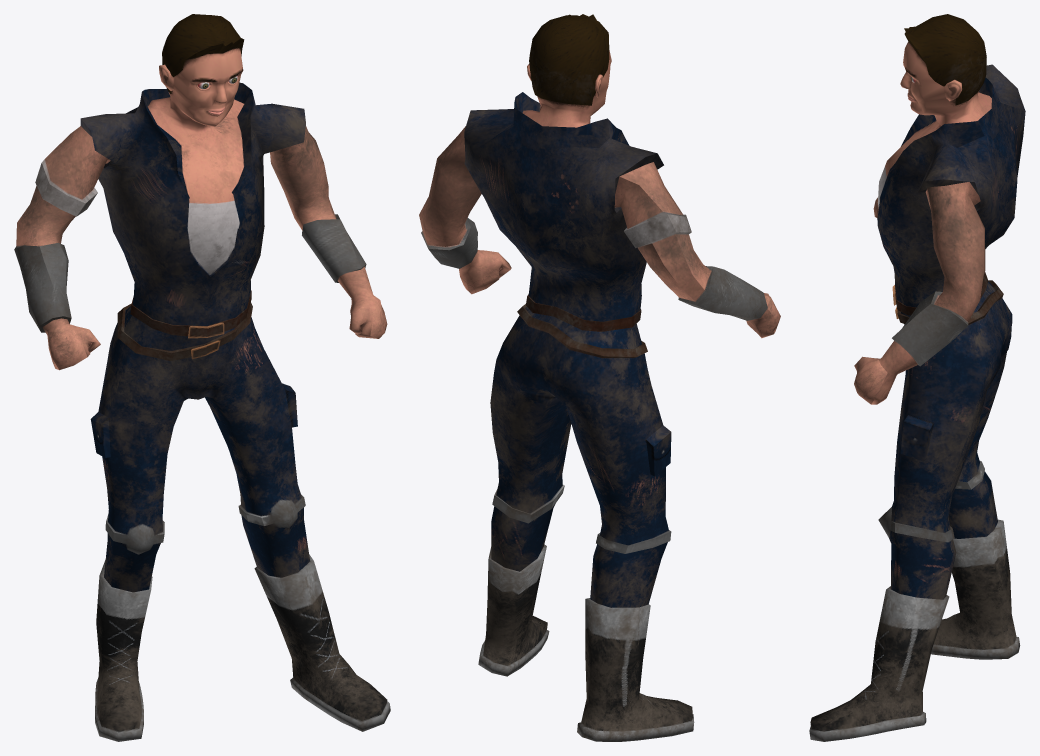
The model's file is Anim_especial_jugador.0038.obj.
The picture shows the model from 3 angles, left to right: view 1: azimuth 30°, elevation 25°; view 2: azimuth 150°, elevation 25°; view 3: azimuth 270°, elevation 25°; orthographic projection. The views are drawn at different scales.
Parts seen in each view (by area): view 1: polySurface1; view 2: polySurface1; view 3: polySurface1.
Boxes of the visible parts, x1,y1,x2,y2 form: polySurface1: [14, 14, 390, 741]; polySurface1: [419, 14, 780, 741]; polySurface1: [809, 14, 1025, 741].
Size of the model in its own units: 4.77 by 9.63 by 2.81.
